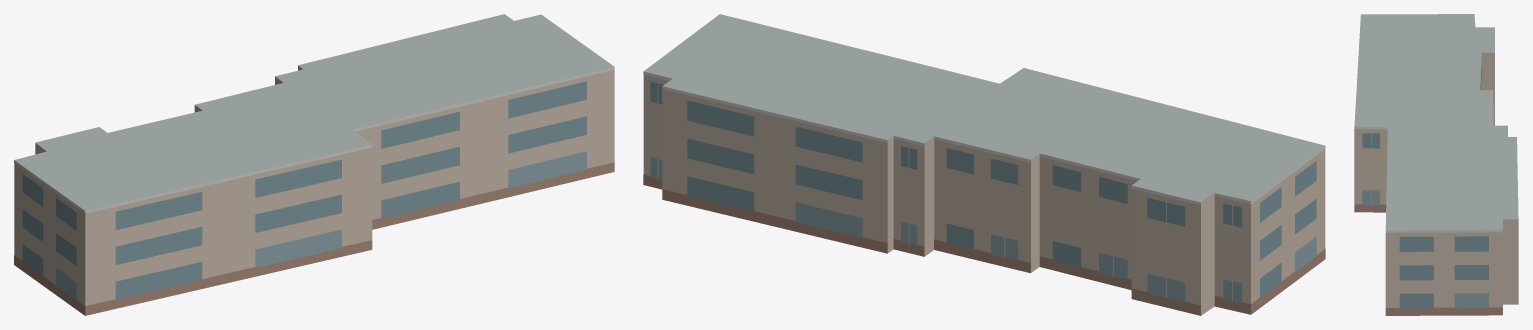
File: survey-upis-32958438.glb
The picture shows the model from 3 angles, left to right: view 1: azimuth 30°, elevation 25°; view 2: azimuth 150°, elevation 25°; view 3: azimuth 270°, elevation 25°; orthographic projection. The views are drawn at different scales.
Parts seen in each view (by area): view 1: survey-upis-32958438.tmp; view 2: survey-upis-32958438.tmp; view 3: survey-upis-32958438.tmp.
Part boxes in pixels (<box>): survey-upis-32958438.tmp: <box>14,14,614,315</box>; survey-upis-32958438.tmp: <box>643,14,1325,315</box>; survey-upis-32958438.tmp: <box>1354,14,1518,315</box>.
Bounding box in the file's own units: 49.8 × 9.15 × 15.95.
